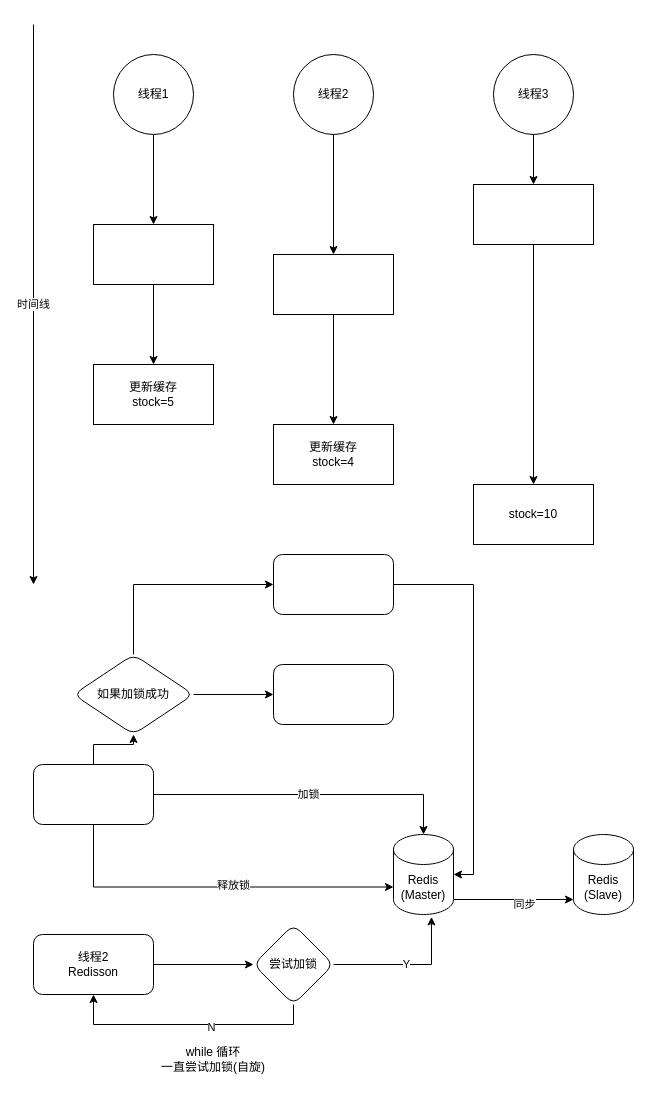
The diagram is 651 pixels wide and 1102 high, and some of its shapes have lost their labels. The centre of each missing label's shape, as x and y in pixels:
"执行业务逻辑" goes at point (333, 694).
"更新数据库 stock=10" goes at point (533, 214).
"更新数据库 stock=4" goes at point (333, 284).
"更新数据库 stock=5" goes at point (153, 254).
"每隔10s检查持有锁的线程是否还存活，存活则演延长加锁时间" goes at point (333, 584).
"线程1 Redisson" goes at point (93, 794).
